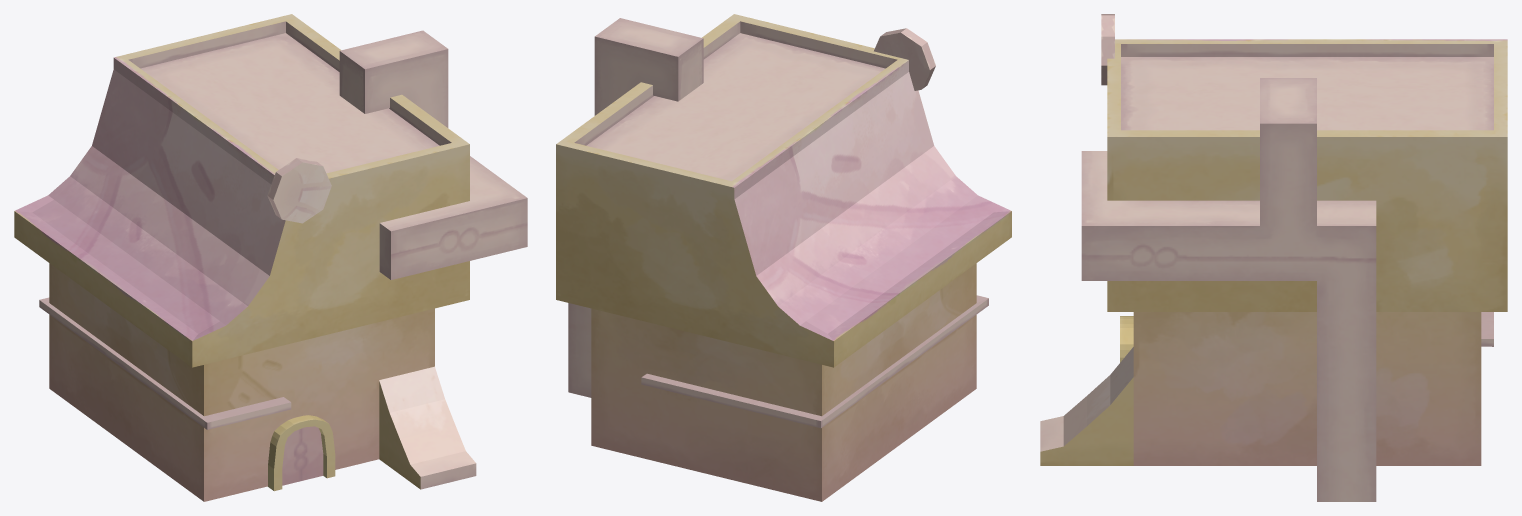
File: building_d.fbx
3 views of the same model, side by side, from view 1: azimuth 30°, elevation 25°; view 2: azimuth 150°, elevation 25°; view 3: azimuth 270°, elevation 25° (orthographic). The views are drawn at different scales.
Parts seen in each view (by area): view 1: Cube.004; view 2: Cube.004; view 3: Cube.004.
Boxes of the visible parts, bbox=[...] form: Cube.004: bbox=[14, 14, 527, 501]; Cube.004: bbox=[556, 14, 1011, 501]; Cube.004: bbox=[1040, 14, 1507, 501].
Size of the model in its own units: 1543 by 1542 by 1714.
